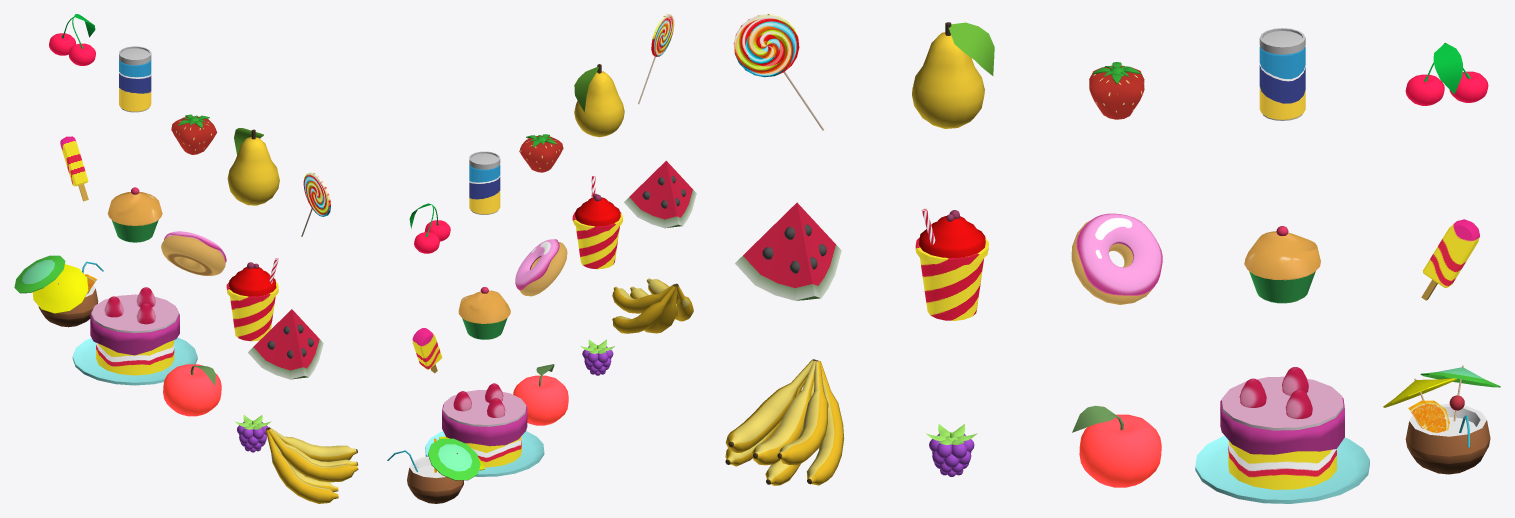
File: food_pack.glb
The picture shows the model from 3 angles, left to right: view 1: azimuth 30°, elevation 25°; view 2: azimuth 150°, elevation 25°; view 3: azimuth 270°, elevation 25°; orthographic projection. The views are drawn at different scales.
Visible parts, largest first — view 1: Cake_3, Bananas_21, Watermelon_9, Milkshake_10, Pear_4, Apple_23, Cupcake_11, Donut_14, Can_24, umbrella1_20, umbrella_19, Cherry_1 (+5 smaller); view 2: Cake_3, Bananas_21, Watermelon_9, Milkshake_10, Pear_4, Apple_23, Cupcake_11, Donut_14, Can_24, umbrella_19, coconut_16, pCube1_6 (+4 smaller); view 3: Cake_3, Bananas_21, Donut_14, Watermelon_9, Pear_4, Milkshake_10, Apple_23, Cupcake_11, Can_24, coconut_16, Lollipop_2, Cherry_1 (+5 smaller).
Part boxes in pixels (box(x1,y1,x2,y2)): Cake_3: box(72, 287, 197, 385); Bananas_21: box(265, 427, 358, 503); Watermelon_9: box(248, 309, 323, 379); Milkshake_10: box(226, 258, 278, 341); Pear_4: box(227, 128, 279, 205); Apple_23: box(163, 364, 221, 416); Cupcake_11: box(107, 187, 162, 242); Donut_14: box(161, 231, 226, 275); Can_24: box(119, 46, 151, 112); umbrella1_20: box(32, 264, 88, 313); umbrella_19: box(14, 255, 65, 293); Cherry_1: box(49, 14, 95, 65); Cake_3: box(425, 383, 544, 476); Bananas_21: box(612, 278, 693, 333); Watermelon_9: box(624, 160, 696, 228); Milkshake_10: box(572, 176, 622, 269); Pear_4: box(574, 64, 624, 137); Apple_23: box(513, 364, 568, 425); Cupcake_11: box(458, 287, 510, 339); Donut_14: box(515, 239, 567, 296); Can_24: box(469, 151, 500, 214); umbrella_19: box(428, 438, 480, 480); coconut_16: box(407, 456, 463, 503); pCube1_6: box(519, 135, 563, 172); Cake_3: box(1195, 367, 1369, 503); Bananas_21: box(725, 359, 844, 485); Donut_14: box(1071, 213, 1162, 304); Watermelon_9: box(735, 202, 841, 300); Pear_4: box(912, 22, 994, 128); Milkshake_10: box(915, 208, 988, 320); Apple_23: box(1072, 405, 1161, 487); Cupcake_11: box(1244, 226, 1320, 303); Can_24: box(1259, 28, 1305, 120); coconut_16: box(1405, 404, 1490, 474); Lollipop_2: box(733, 14, 824, 130); Cherry_1: box(1405, 43, 1488, 105).
Size of the model in its own units: 1.59 by 4.67 by 7.03.
51 materials, 13 textured.
